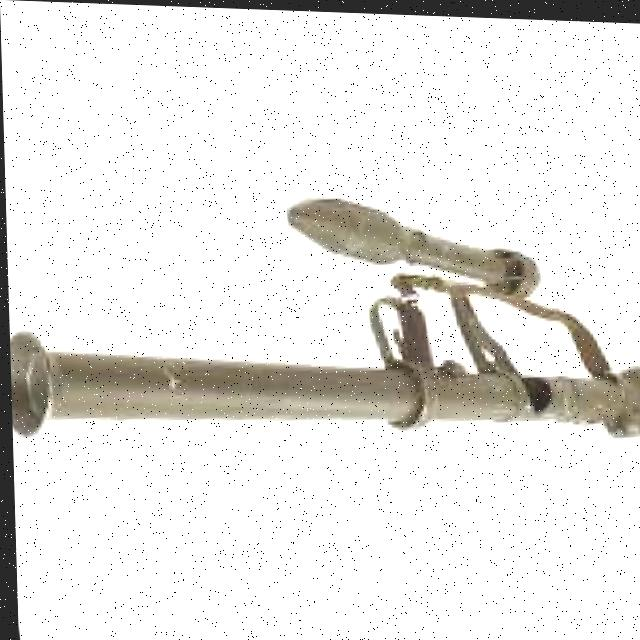rocket: (4, 170, 640, 501)
